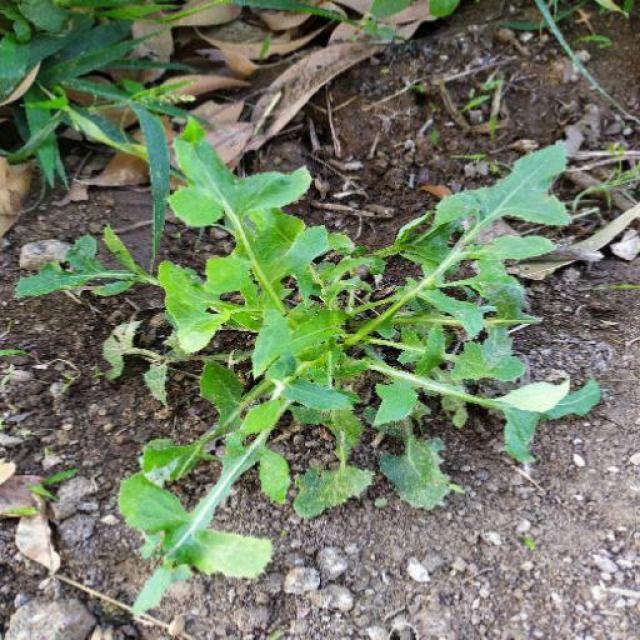weed: (22, 110, 598, 552)
